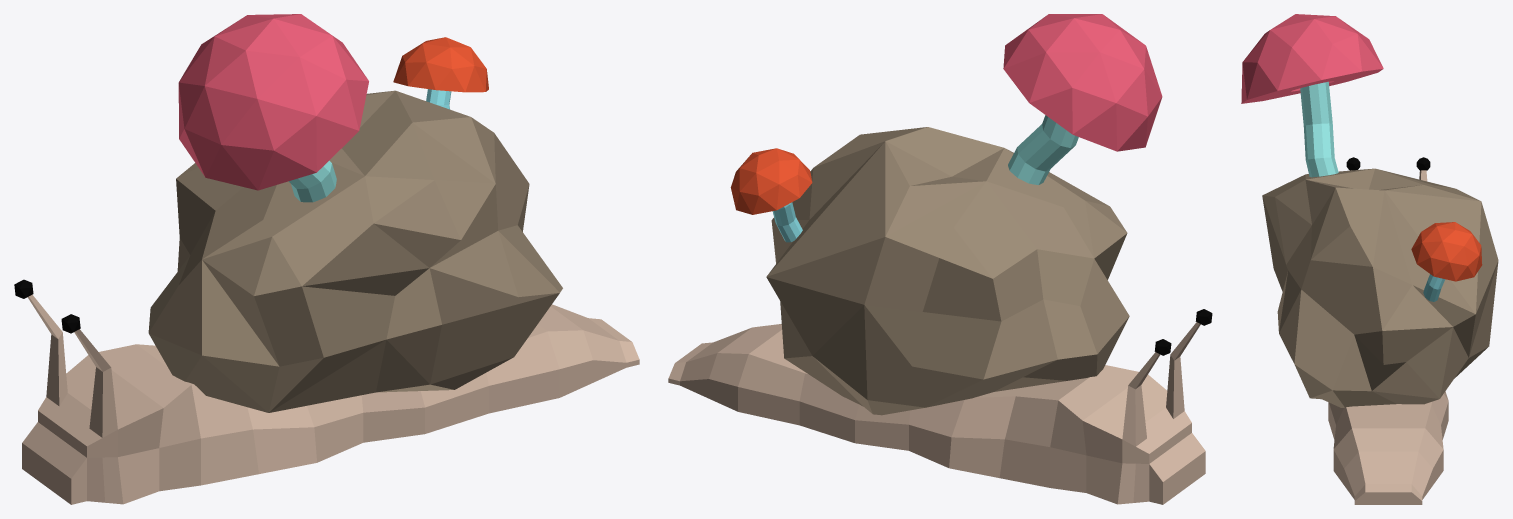
Rendered from Snail.fbx.
3 renders of one model, left to right at view 1: azimuth 30°, elevation 25°; view 2: azimuth 150°, elevation 25°; view 3: azimuth 270°, elevation 25°, orthographic. The views are drawn at different scales.
Parts seen in each view (by area): view 1: Cube.001, Cube, Icosphere, Icosphere.002, Cylinder; view 2: Cube.001, Cube, Icosphere, Icosphere.002, Cylinder, Cylinder.001; view 3: Cube.001, Cube, Icosphere, Icosphere.002, Cylinder, Cylinder.001.
Part boxes in pixels (<box>): Cube.001: <box>148,90,562,412</box>; Cube: <box>22,294,639,504</box>; Icosphere: <box>178,14,368,190</box>; Icosphere.002: <box>393,37,488,92</box>; Cylinder: <box>289,160,336,202</box>; Cube.001: <box>766,127,1129,415</box>; Cube: <box>668,322,1205,504</box>; Icosphere: <box>1003,14,1162,151</box>; Icosphere.002: <box>730,148,812,214</box>; Cylinder: <box>1008,115,1078,185</box>; Cylinder.001: <box>772,202,802,242</box>; Cube.001: <box>1262,168,1498,407</box>; Cube: <box>1328,170,1448,504</box>; Icosphere: <box>1241,14,1383,103</box>; Icosphere.002: <box>1411,222,1482,281</box>; Cylinder: <box>1300,81,1338,177</box>; Cylinder.001: <box>1423,274,1445,301</box>.
Size of the model in its own units: 121 by 92.09 by 62.5.
